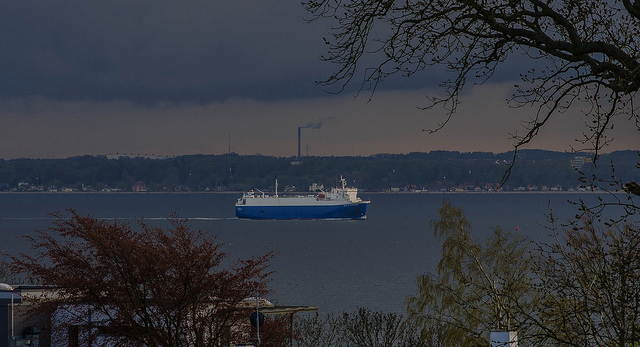PCC: (235, 176, 377, 222)
